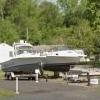Boat: (1, 37, 91, 84)
